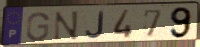4: (111, 9, 135, 40)
7: (142, 8, 164, 38)
9: (168, 6, 194, 40)
G: (25, 11, 51, 43)
J: (84, 10, 105, 40)
N: (52, 10, 80, 42)
